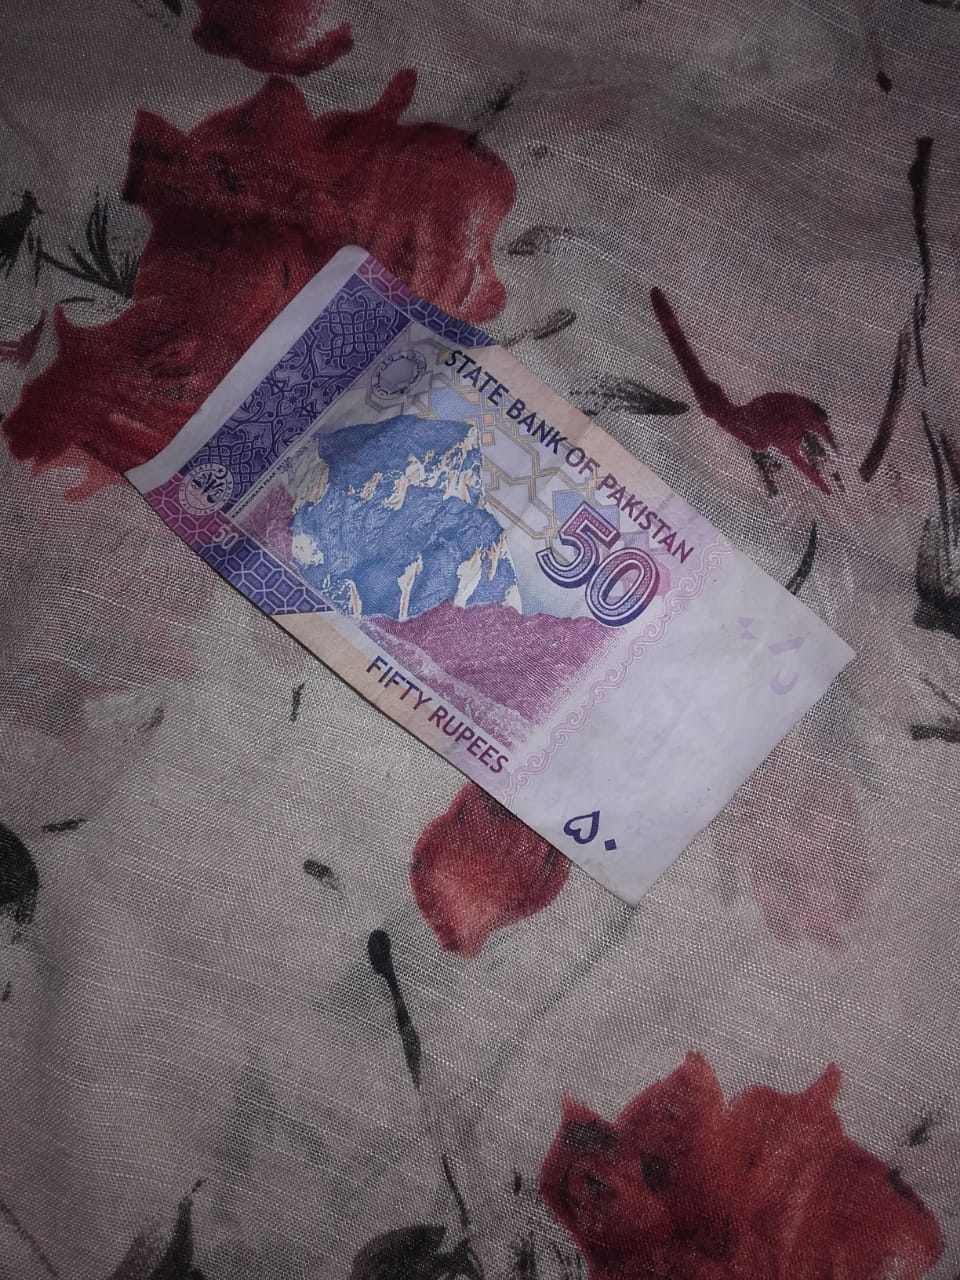50 rupee: (121, 251, 850, 978)
